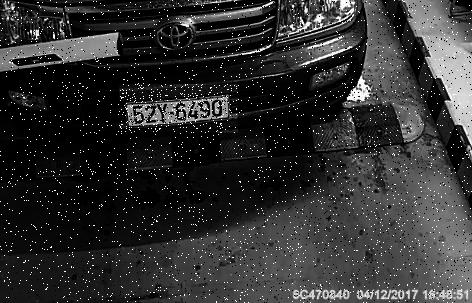License-plate: (121, 85, 241, 134)
